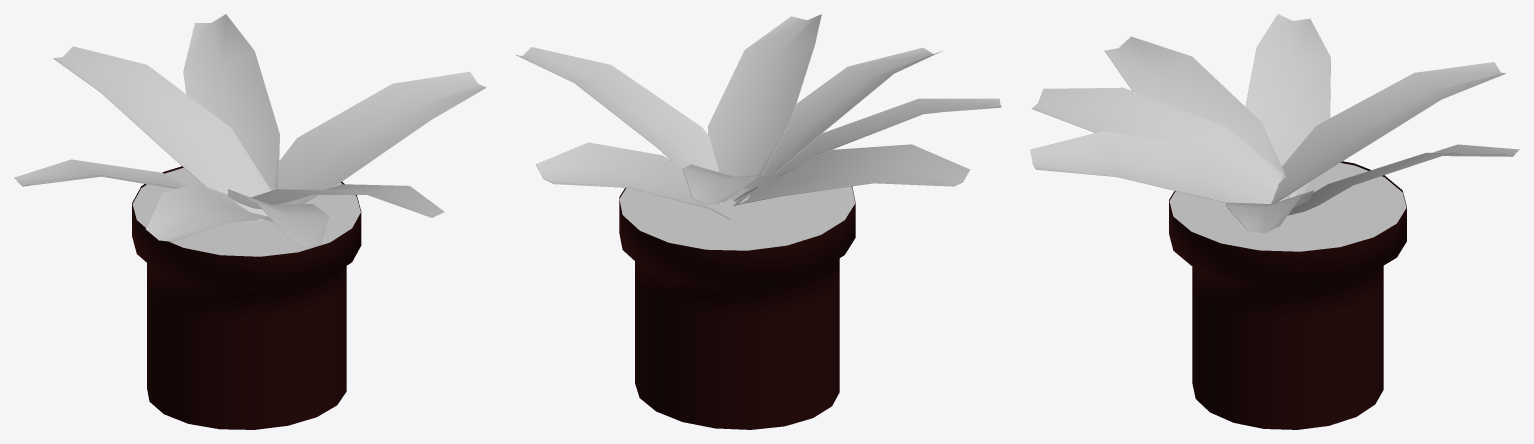
The model's file is plant_normal.FBX.
3 views of the same model, side by side, from view 1: azimuth 30°, elevation 25°; view 2: azimuth 150°, elevation 25°; view 3: azimuth 270°, elevation 25° (orthographic). The views are drawn at different scales.
Visible parts, largest first — view 1: Cylinder002, Plane006, Plane005, Plane007, Plane003, Plane004, Plane001, Plane002; view 2: Cylinder002, Plane001, Plane005, Plane004, Plane007, Plane002, Plane003, Plane006; view 3: Cylinder002, Plane001, Plane004, Plane006, Plane002, Plane003, Plane007, Plane005.
Boxes of the visible parts, <box> form: Cylinder002: <box>132,166,361,429</box>; Plane006: <box>53,46,271,220</box>; Plane005: <box>265,71,486,204</box>; Plane007: <box>183,14,279,189</box>; Plane003: <box>145,183,273,241</box>; Plane004: <box>14,159,207,193</box>; Plane001: <box>251,184,444,217</box>; Plane002: <box>227,189,328,247</box>; Cylinder002: <box>619,186,855,429</box>; Plane001: <box>707,14,821,204</box>; Plane005: <box>515,47,721,204</box>; Plane004: <box>733,144,970,205</box>; Plane007: <box>536,142,729,219</box>; Plane002: <box>734,47,943,206</box>; Plane003: <box>733,98,1001,201</box>; Plane006: <box>682,164,780,204</box>; Cylinder002: <box>1169,161,1406,429</box>; Plane001: <box>1030,131,1283,203</box>; Plane004: <box>1242,14,1330,195</box>; Plane006: <box>1271,62,1506,203</box>; Plane002: <box>1032,87,1295,197</box>; Plane003: <box>1105,36,1290,199</box>; Plane007: <box>1288,144,1519,215</box>; Plane005: <box>1226,190,1314,233</box>.
Size of the model in its own units: 295 by 178 by 281.
